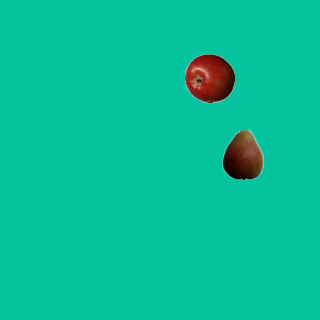Apple Braeburn: (184, 53, 234, 103)
Pear Forelle: (217, 129, 267, 179)
